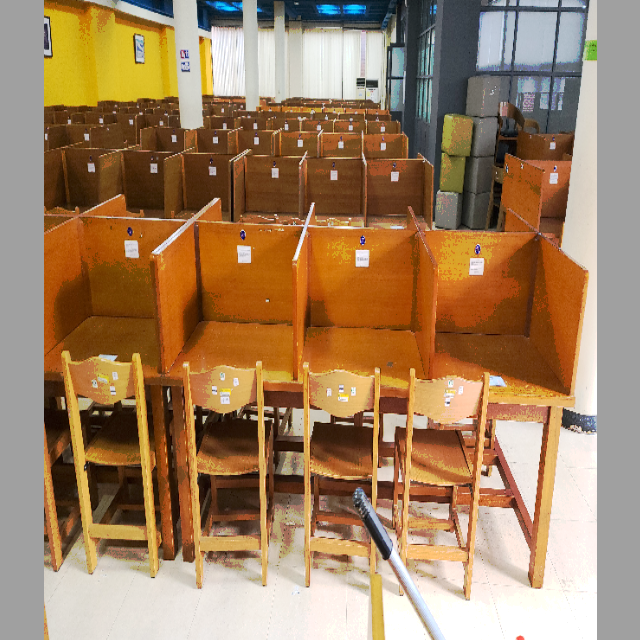empty: (447, 210, 584, 458), (157, 218, 296, 456), (300, 215, 435, 452)
